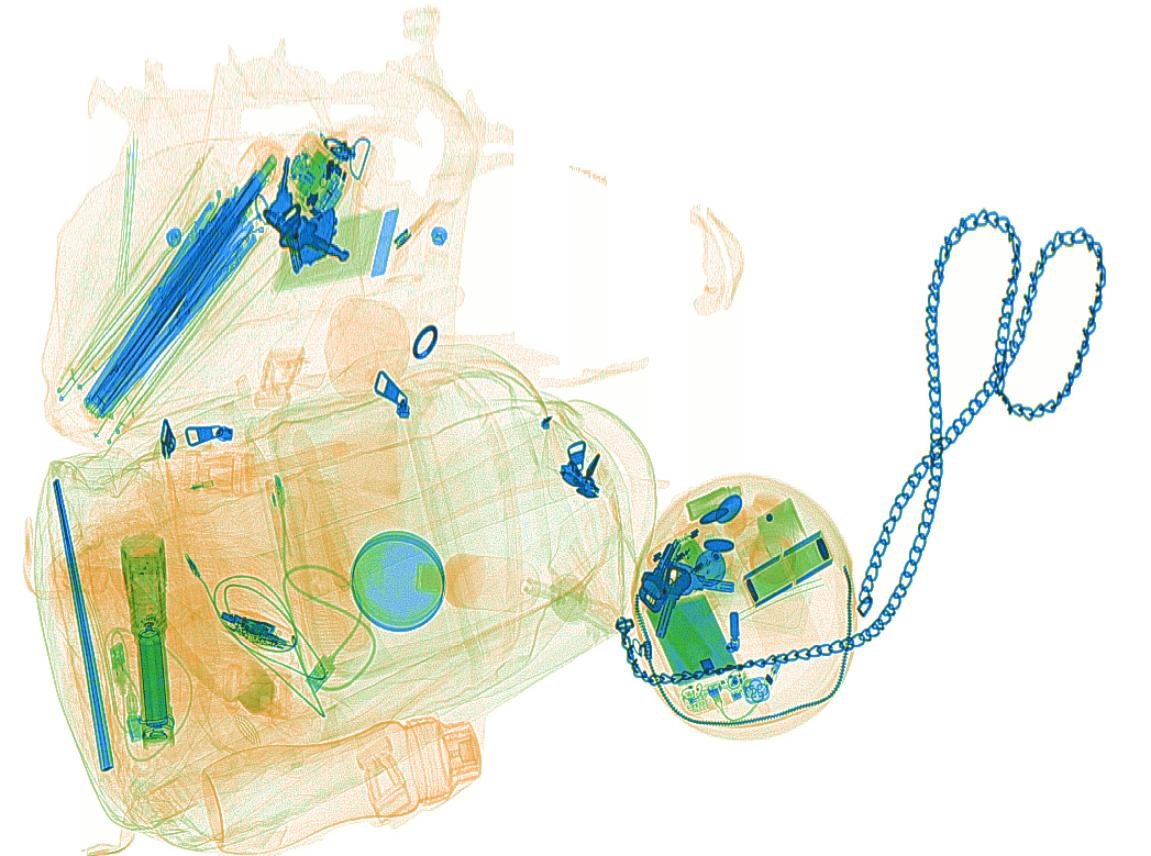battery: (134, 624, 170, 730)
